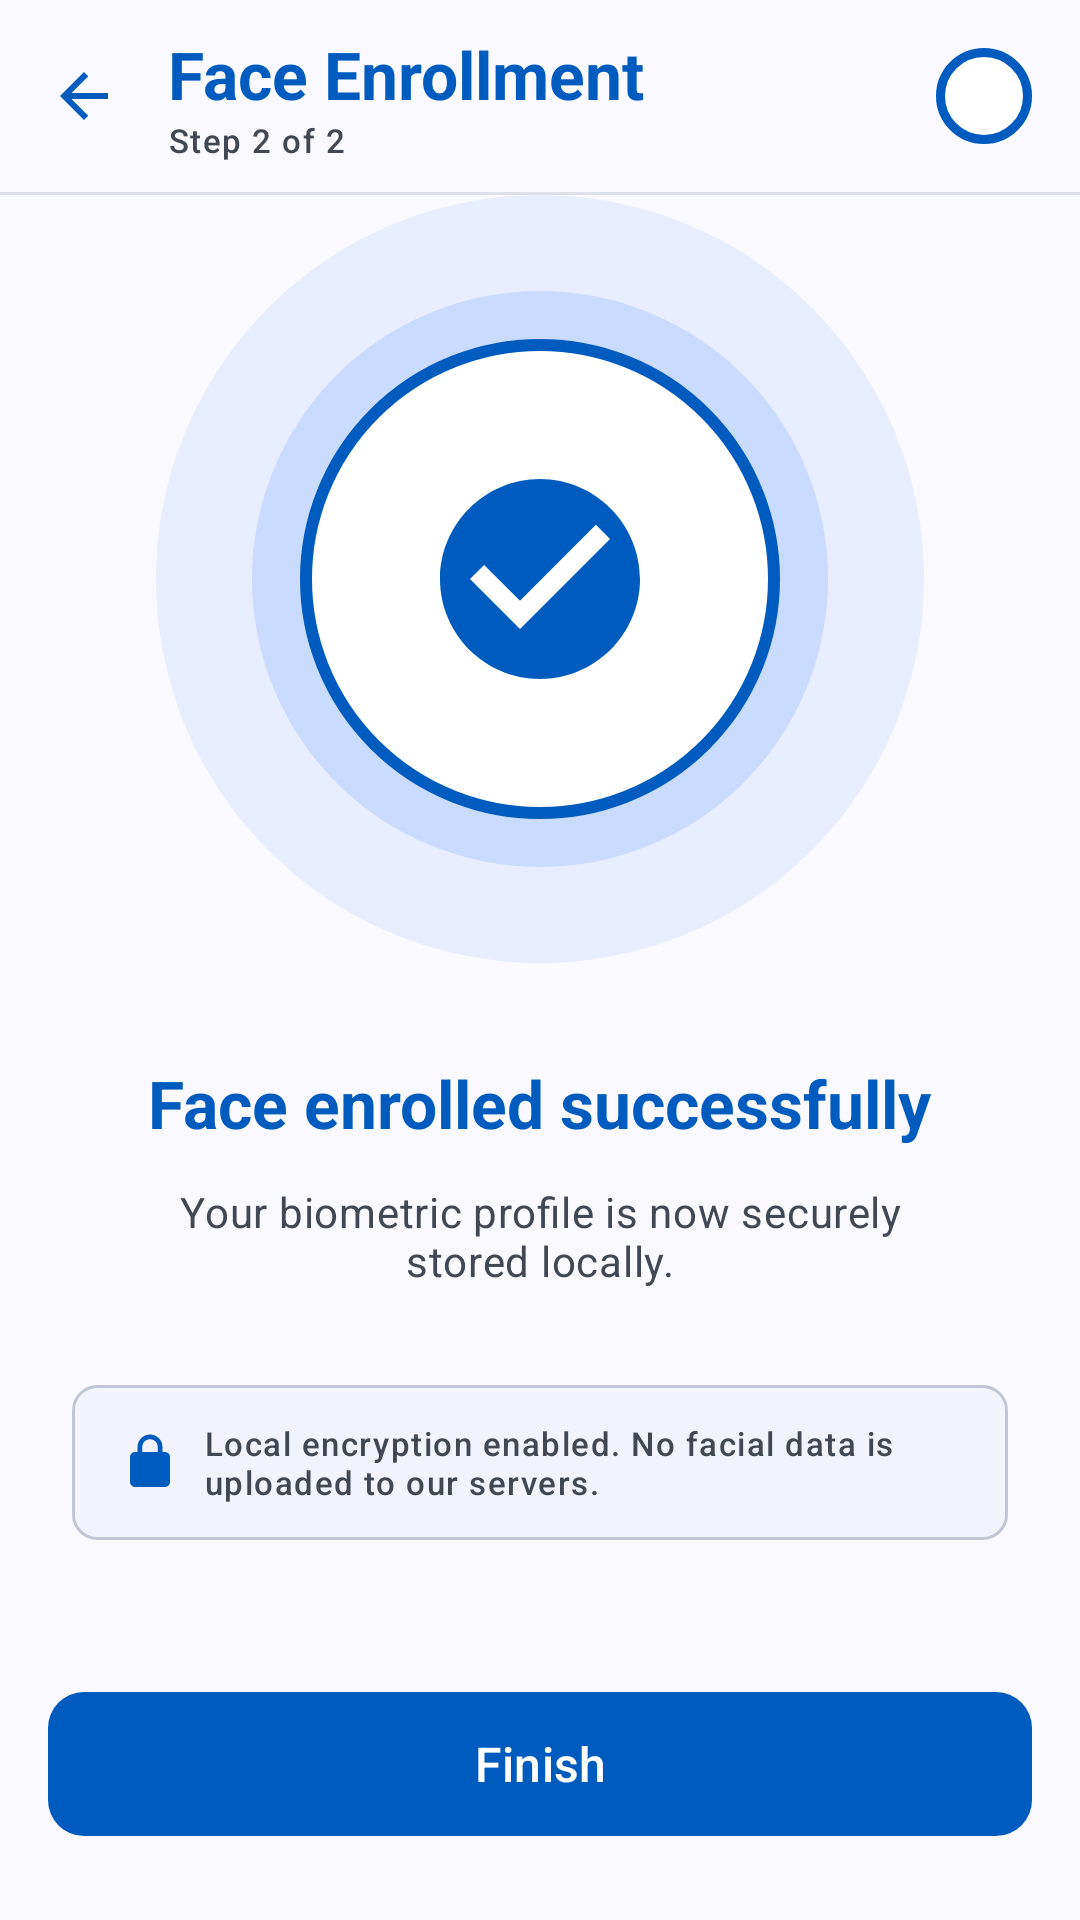

Named icons in this screenshot (1080x1920) and their centers, (x=x, y=y):
check circle: (x=540, y=579)
lock: (x=150, y=1460)
